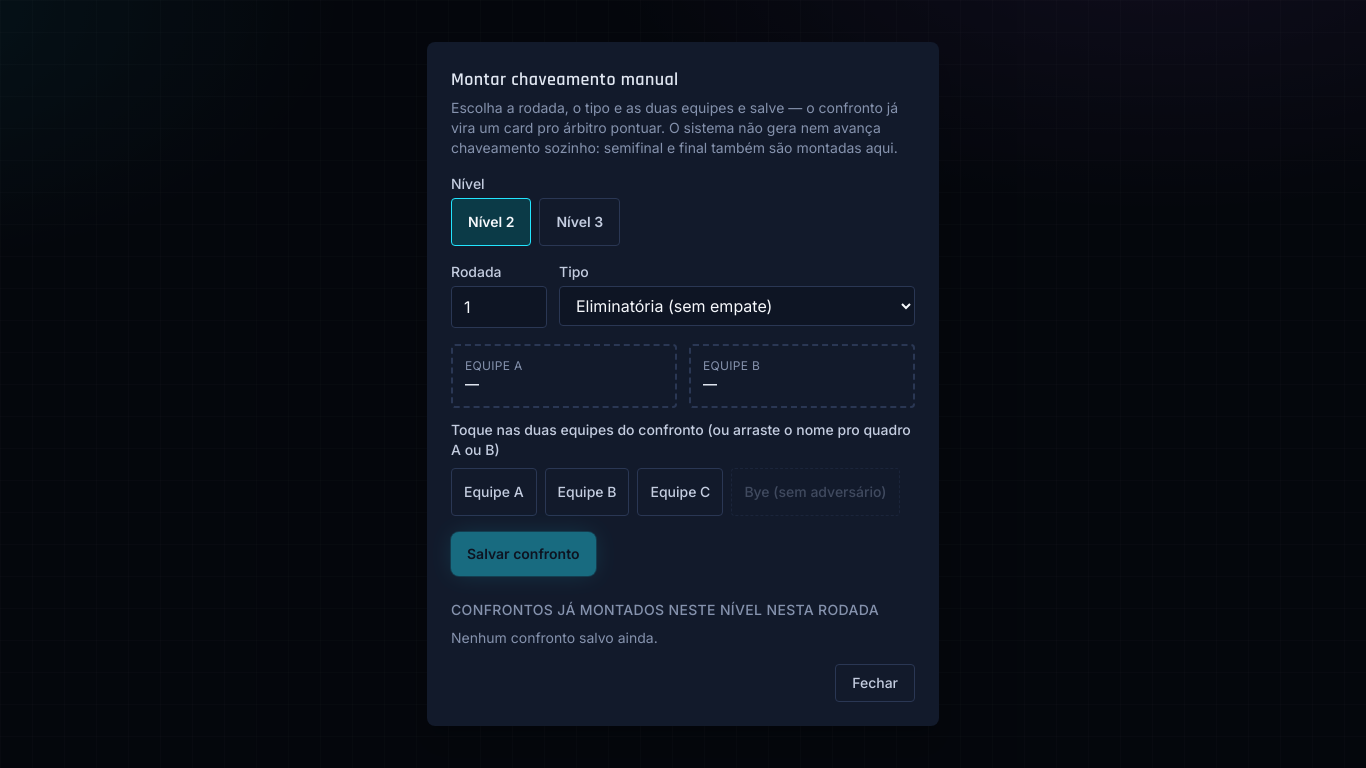
Test: ChaveamentoManualBuilder › mostra a mensagem de erro quando o backend recusa
This screenshot has width=1366, height=768.
Click the button "Equipe A" at (494,492), box [451,468,537,516]
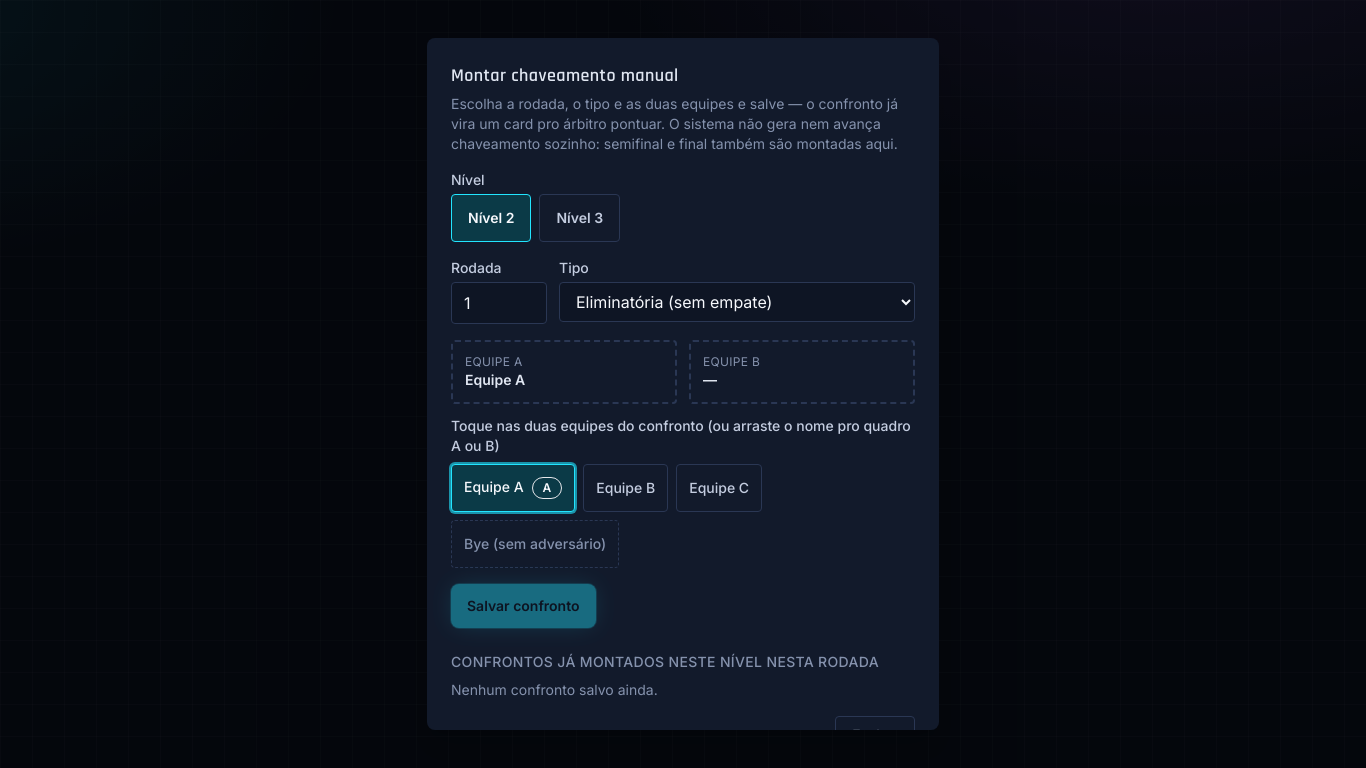
Click the button "Equipe B" at (626,488), box [583,464,668,512]
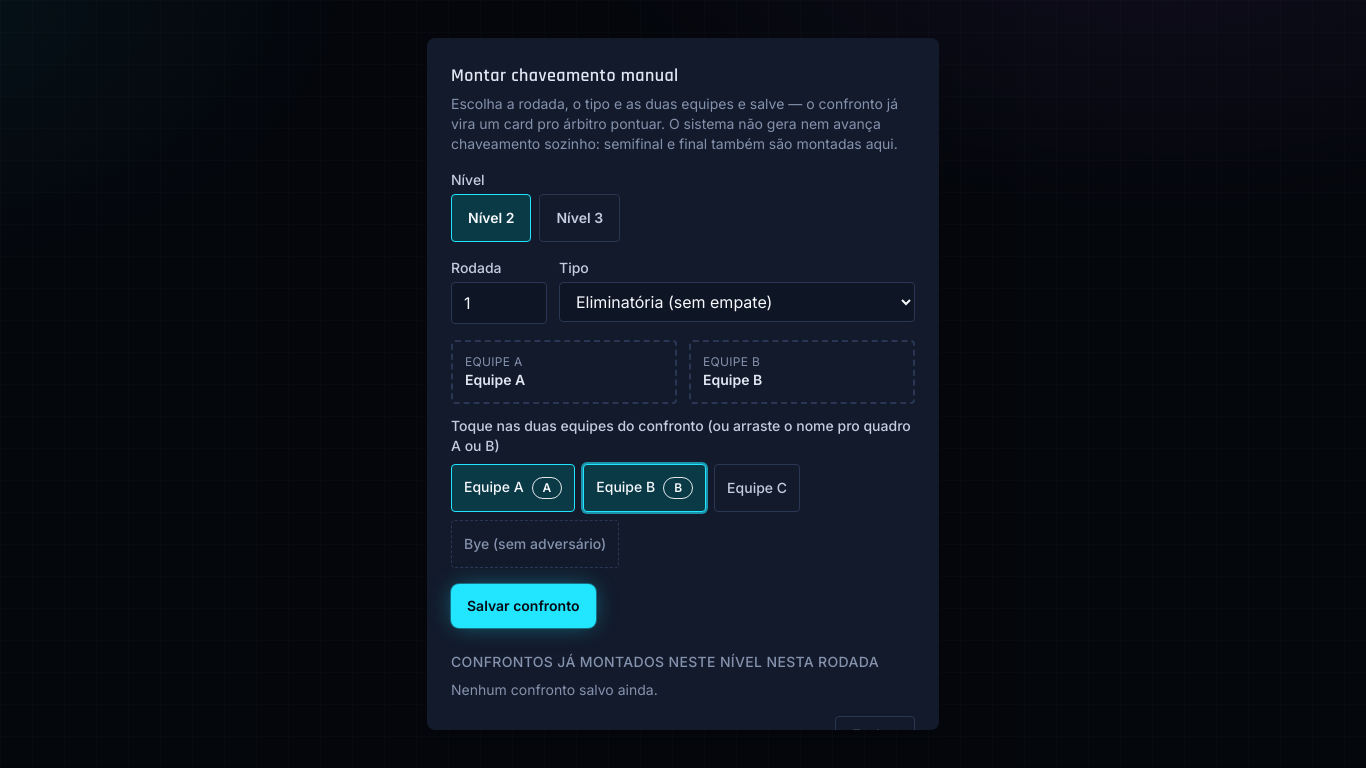
Click the button "Salvar confronto" at (523,606), box [451,584,596,628]
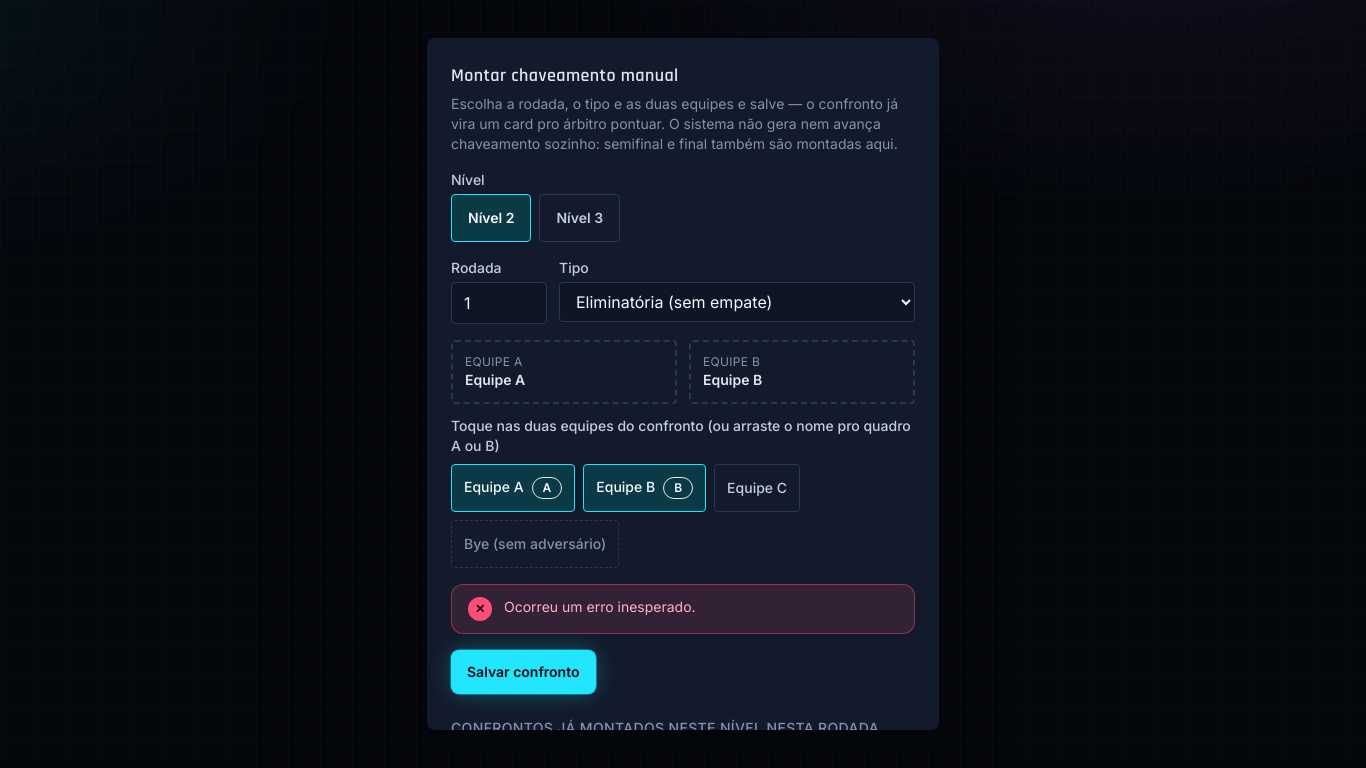
Expected: the text "Ocorreu um erro inesperado." is shown, [504,598,696,615]
